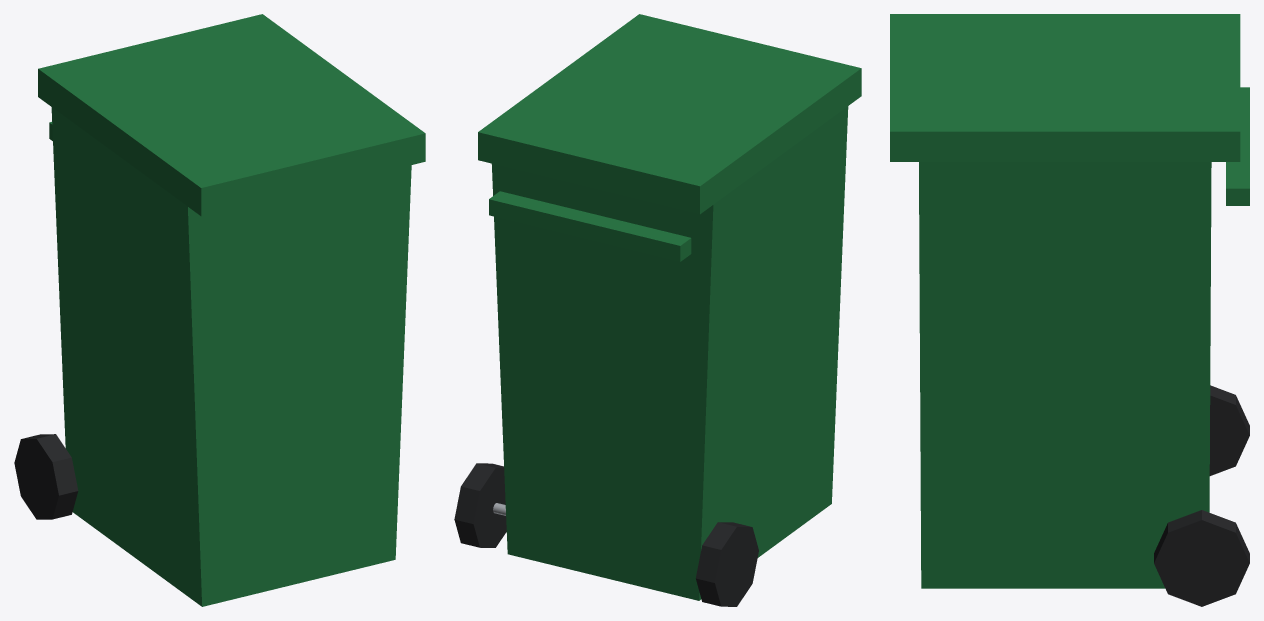
Rendered from thung_rac_240l.mid.glb.
3 renders of one model, left to right at view 1: azimuth 30°, elevation 25°; view 2: azimuth 150°, elevation 25°; view 3: azimuth 270°, elevation 25°, orthographic. The views are drawn at different scales.
Visible parts, largest first — view 1: thung_rac_240l, nap_thung_rac; view 2: thung_rac_240l, nap_thung_rac; view 3: thung_rac_240l, nap_thung_rac.
Part boxes in pixels (<box>): thung_rac_240l: <box>14,107,411,606</box>; nap_thung_rac: <box>38,14,425,216</box>; thung_rac_240l: <box>454,106,848,606</box>; nap_thung_rac: <box>478,14,861,214</box>; thung_rac_240l: <box>919,87,1249,606</box>; nap_thung_rac: <box>890,14,1240,161</box>.
Bounding box in the file's own units: 0.68 × 1.07 × 0.75.
